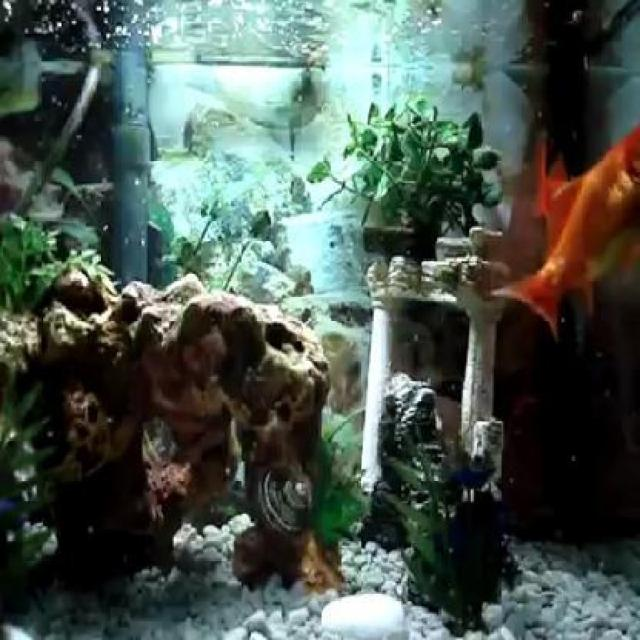GoldFish: (492, 120, 639, 342)
